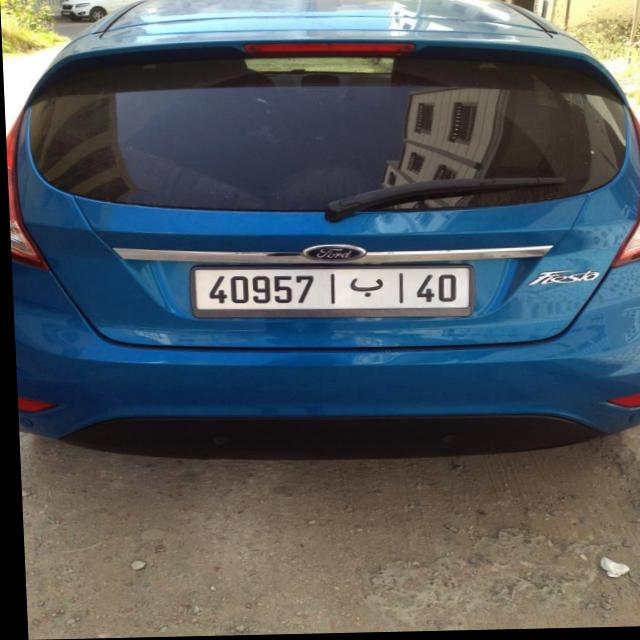License-Plate: (190, 268, 468, 317)
